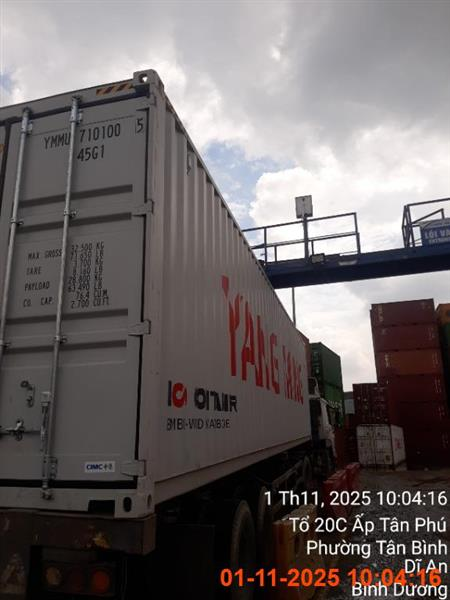broken: (0, 70, 359, 599)
